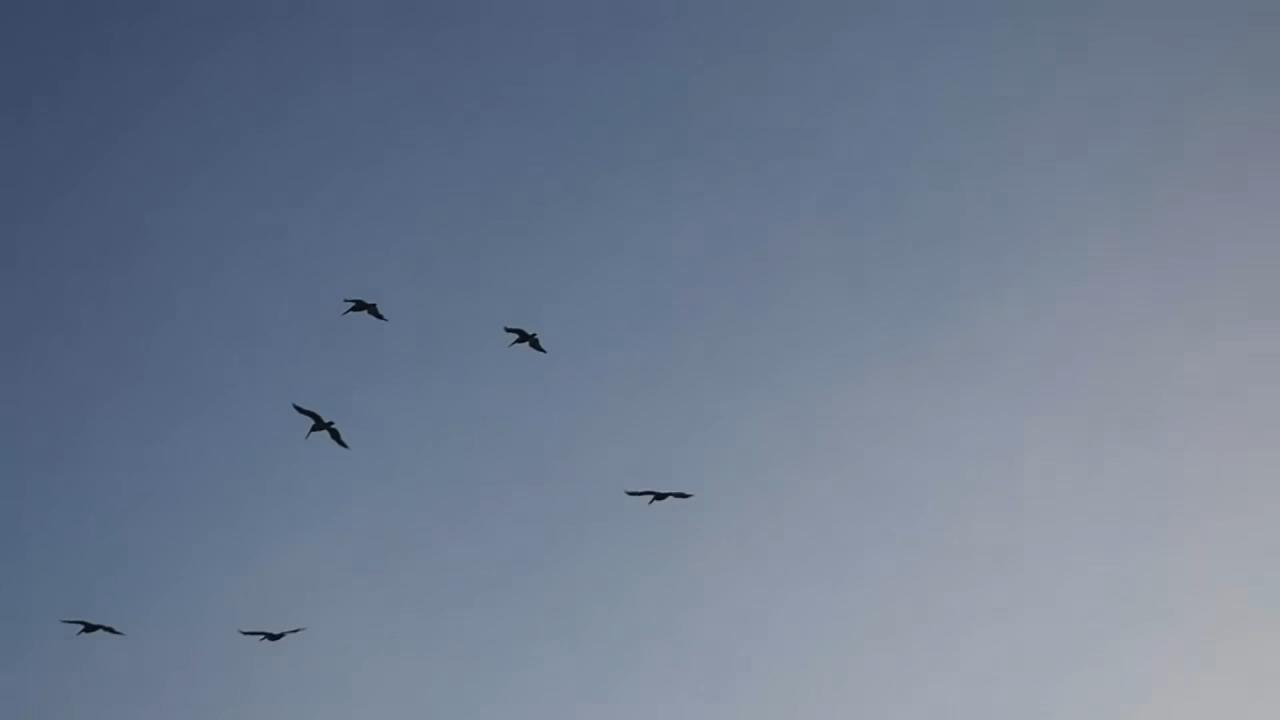Bird: (282, 390, 356, 456), (496, 314, 555, 360), (620, 480, 700, 513), (51, 612, 133, 644), (230, 622, 314, 651), (331, 288, 391, 328)
